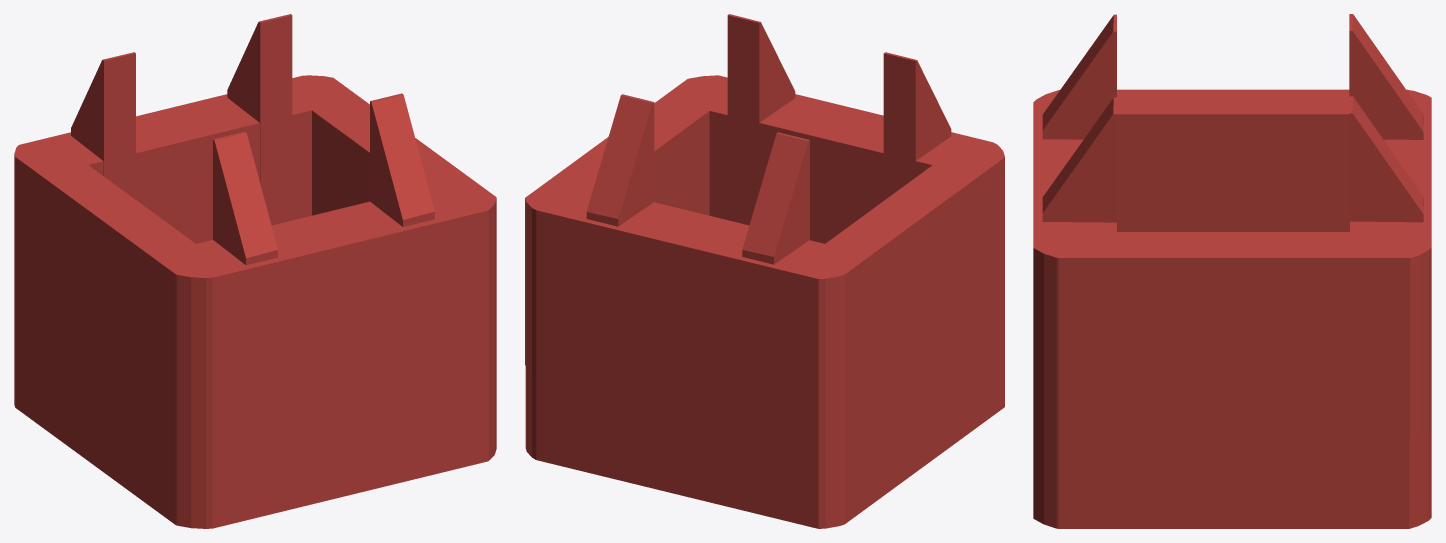
The model's file is mx-opener.glb.
3 renders of one model, left to right at view 1: azimuth 30°, elevation 25°; view 2: azimuth 150°, elevation 25°; view 3: azimuth 270°, elevation 25°, orthographic. The views are drawn at different scales.
Visible parts, largest first — view 1: opener; view 2: opener; view 3: opener.
Part boxes in pixels (bbox=[...]): opener: bbox=[14, 14, 496, 528]; opener: bbox=[525, 14, 1004, 528]; opener: bbox=[1033, 14, 1431, 528].
Size of the model in its own units: 20 by 21 by 20.
